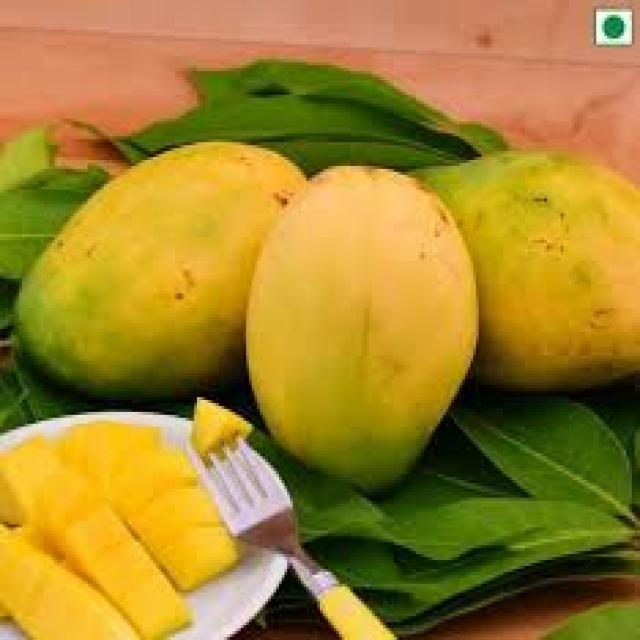mango: (243, 166, 481, 498), (2, 143, 301, 393), (406, 152, 640, 398), (2, 417, 238, 640)
